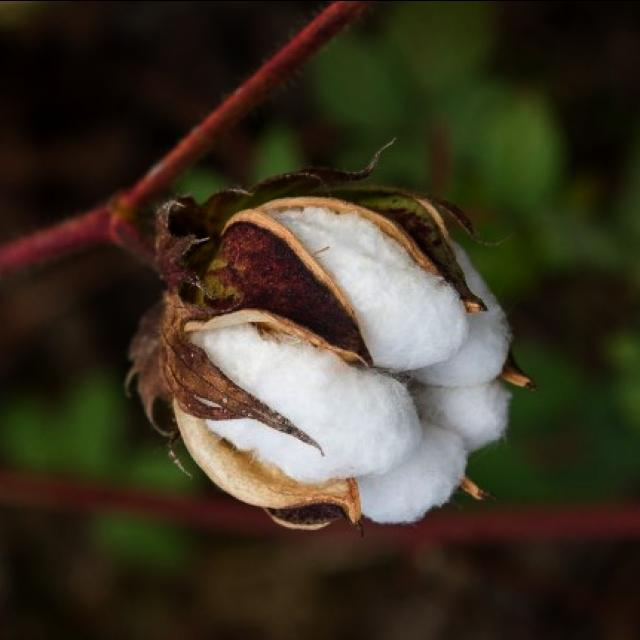Split Cotton Boll: (130, 171, 526, 517)
